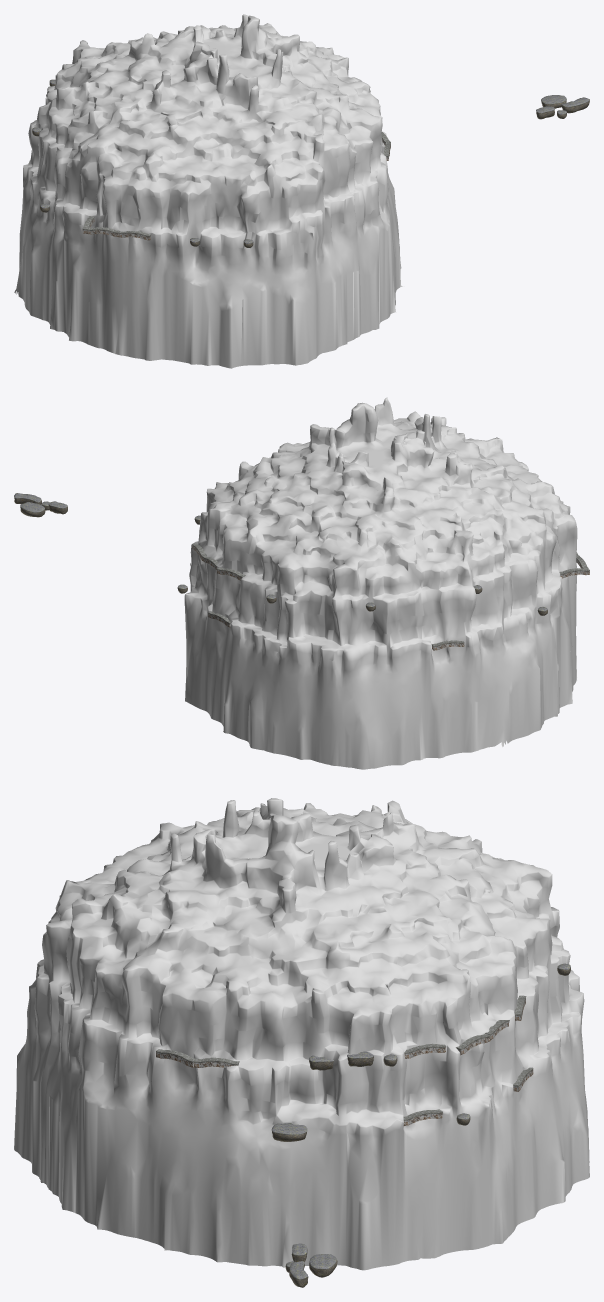
The model's file is berg_3.fbx.
The picture shows the model from 3 angles, top to bottom: view 1: azimuth 30°, elevation 25°; view 2: azimuth 150°, elevation 25°; view 3: azimuth 270°, elevation 25°; orthographic projection. The views are drawn at different scales.
Parts seen in each view (by area): view 1: Hexgrid; view 2: Hexgrid; view 3: Hexgrid.
Part boxes in pixels (box(x1,y1,x2,y2)): Hexgrid: box(14, 14, 402, 368); Hexgrid: box(184, 397, 577, 769); Hexgrid: box(14, 798, 589, 1270).
Size of the model in its own units: 11909 by 5408 by 7802.
